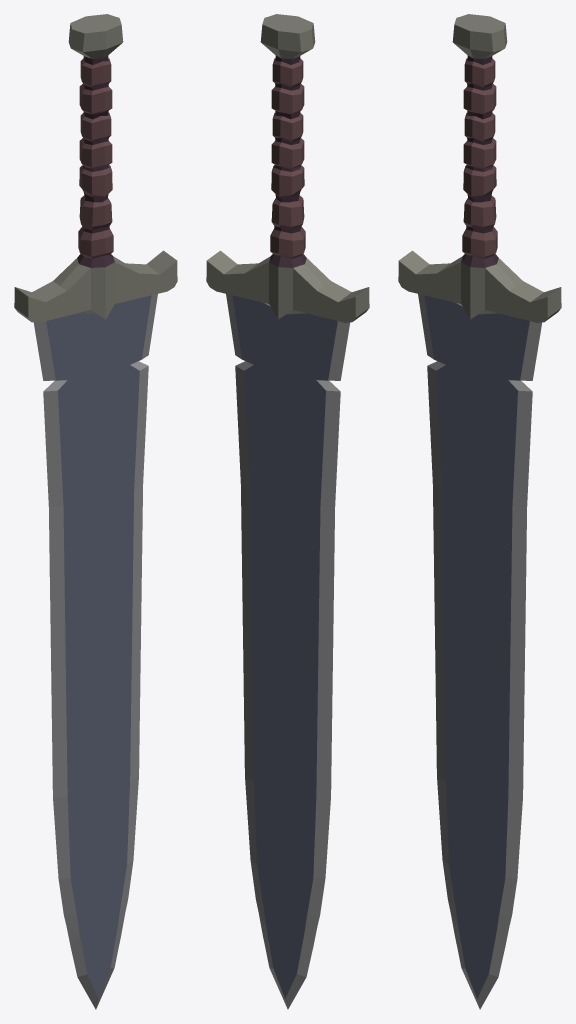
File: swordR.glb
The picture shows the model from 3 angles, left to right: view 1: azimuth 30°, elevation 25°; view 2: azimuth 150°, elevation 25°; view 3: azimuth 330°, elevation 25°; orthographic projection.
Visible parts, largest first — view 1: Sword_big; view 2: Sword_big; view 3: Sword_big.
Boxes of the visible parts, <box> form: Sword_big: <box>14,14,177,1009</box>; Sword_big: <box>206,14,369,1009</box>; Sword_big: <box>398,14,561,1009</box>.
Size of the model in its own units: 0.4331 by 2.73 by 0.1013.
